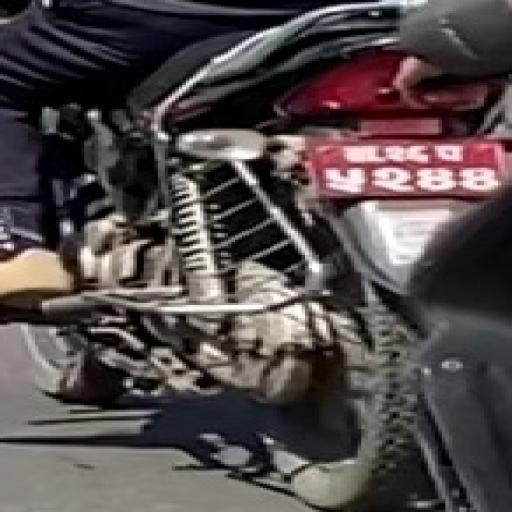license_plate: (302, 136, 508, 202)
